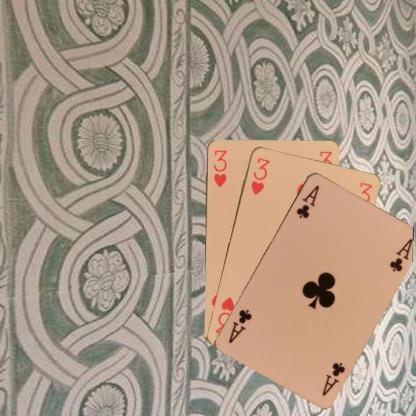3h: (248, 155, 271, 196), (210, 148, 228, 188)
Ac: (319, 359, 347, 397), (294, 182, 320, 220)
